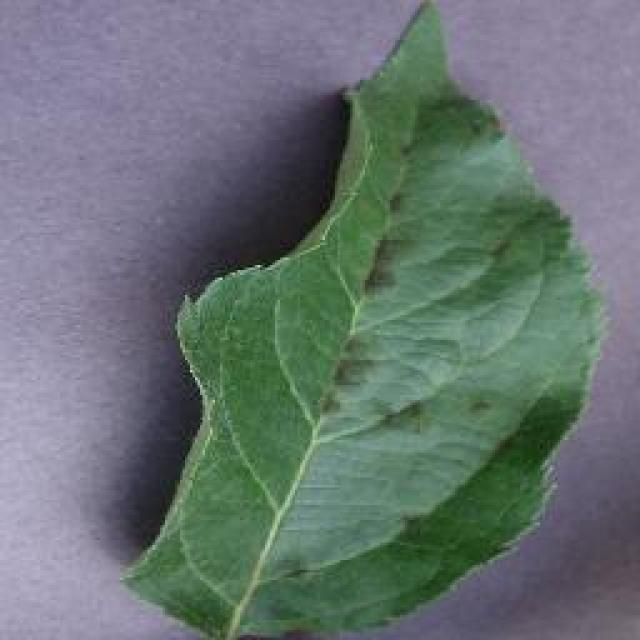apple scab disease: (115, 0, 610, 638)
